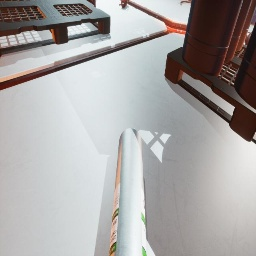0: (109, 128, 146, 256)
FireExtinguisher ]: (119, 0, 129, 8)
NitrogenTank ,: (86, 0, 96, 14), (244, 32, 252, 45)
